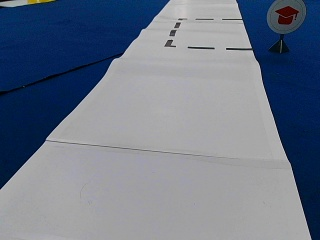school: (266, 1, 305, 33)
